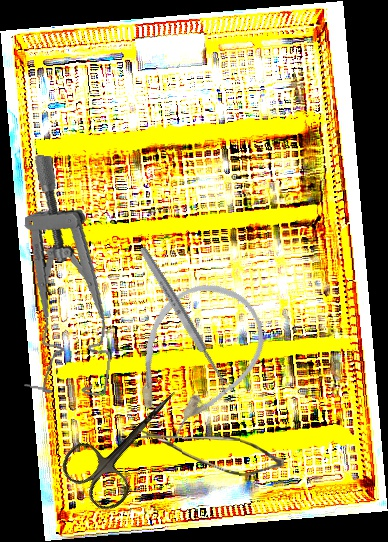Cannula: (107, 263, 283, 455)
Iris Scissors: (54, 367, 203, 517)
Micro Scissor: (137, 428, 285, 477)
Speculum: (4, 154, 135, 400)
Surgical Spoon: (137, 245, 234, 396)
